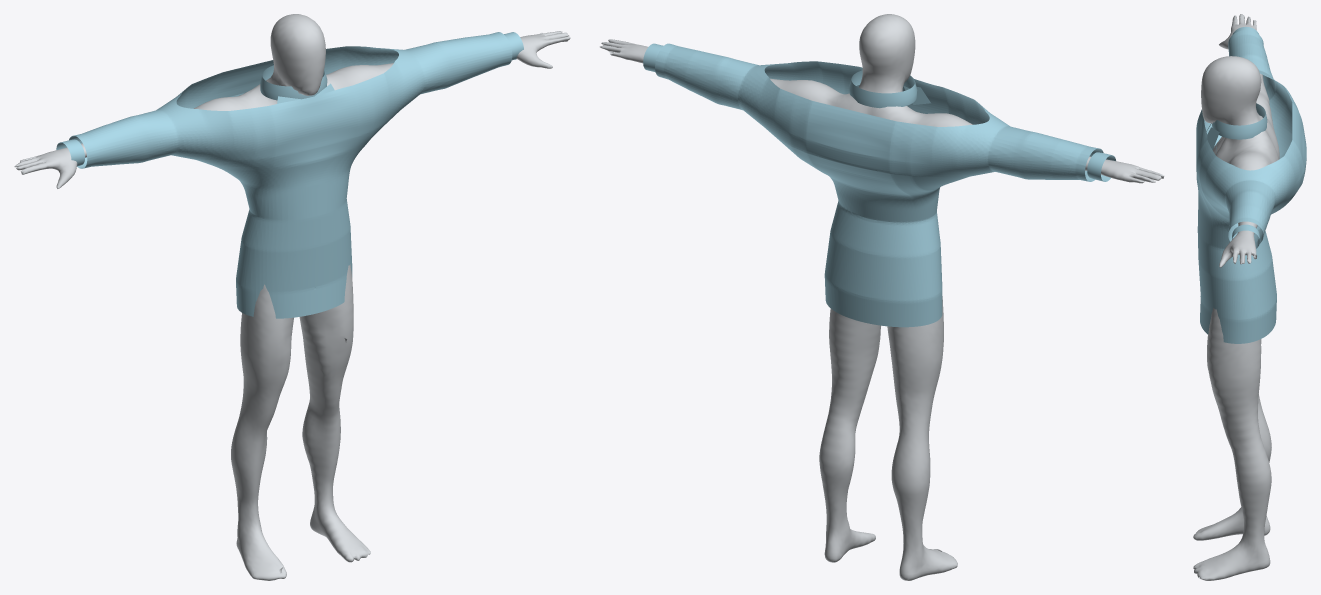
Rendered from garment-on-mannequin-v2.glb.
The picture shows the model from 3 angles, left to right: view 1: azimuth 30°, elevation 25°; view 2: azimuth 150°, elevation 25°; view 3: azimuth 270°, elevation 25°; orthographic projection. The views are drawn at different scales.
Visible parts, largest first — view 1: ATEL-23 Shirt v2, AtelierX_mannequin_180cm; view 2: ATEL-23 Shirt v2, AtelierX_mannequin_180cm; view 3: AtelierX_mannequin_180cm, ATEL-23 Shirt v2.
Boxes of the visible parts, x1,y1,x2,y2 form: ATEL-23 Shirt v2: (56, 32, 523, 318); AtelierX_mannequin_180cm: (14, 14, 570, 580); ATEL-23 Shirt v2: (643, 43, 1115, 327); AtelierX_mannequin_180cm: (600, 14, 1164, 580); AtelierX_mannequin_180cm: (1193, 14, 1279, 580); ATEL-23 Shirt v2: (1196, 27, 1306, 343).
Size of the model in its own units: 1.93 by 1.8 by 0.3724.
